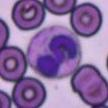N: (27, 25, 82, 78)
